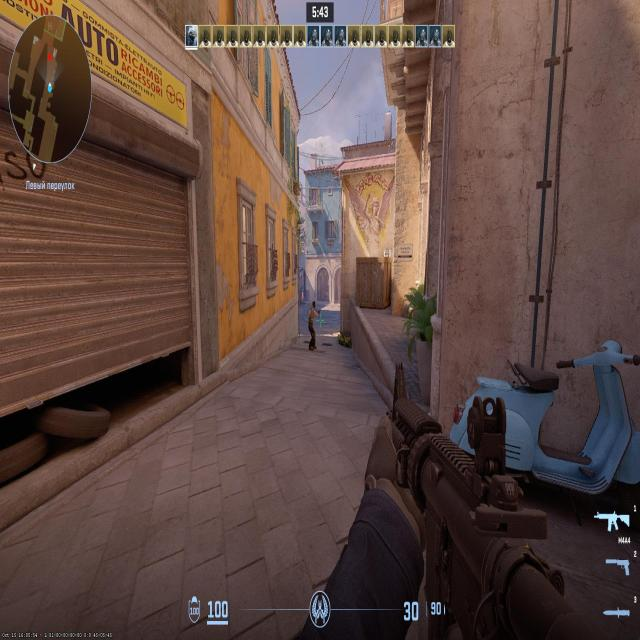T: (310, 304, 316, 355)
T_heat: (312, 304, 316, 311)
